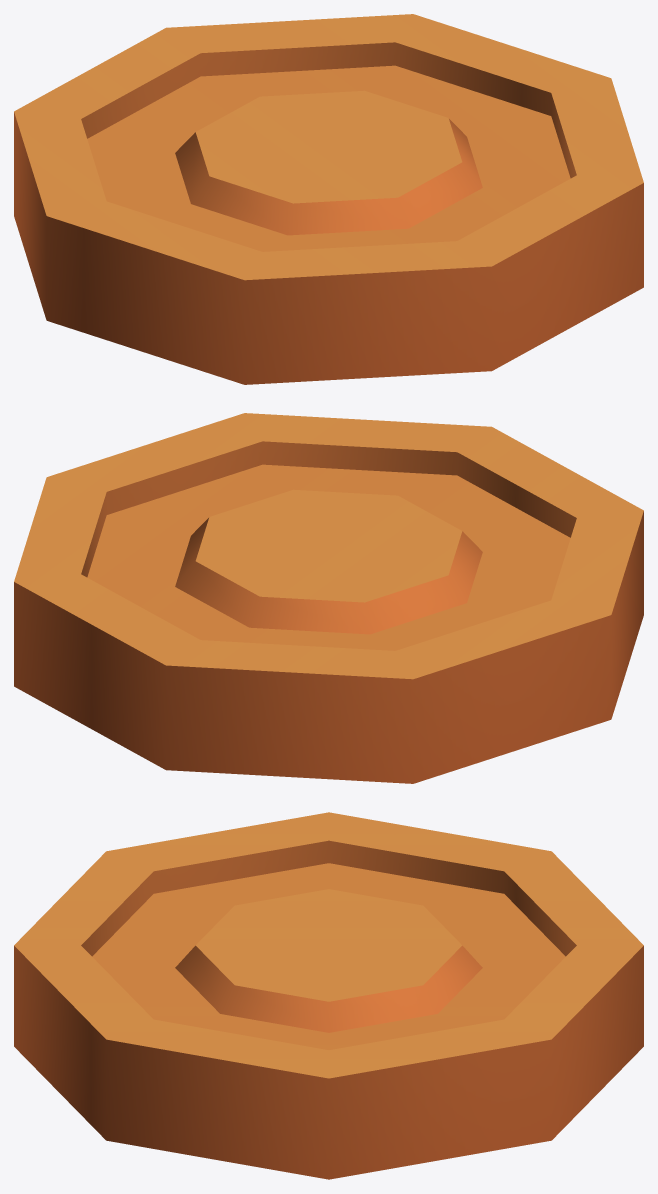
File: Coin1.fbx
3 renders of one model, top to bottom at view 1: azimuth 30°, elevation 25°; view 2: azimuth 150°, elevation 25°; view 3: azimuth 270°, elevation 25°, orthographic. The views are drawn at different scales.
Parts seen in each view (by area): view 1: Coin1; view 2: Coin1; view 3: Coin1.
Boxes of the visible parts, x1,y1,x2,y2 form: Coin1: [14, 14, 643, 384]; Coin1: [14, 413, 643, 783]; Coin1: [14, 812, 643, 1179].
Bounding box in the file's own units: 25.41 × 4.5 × 25.41.
